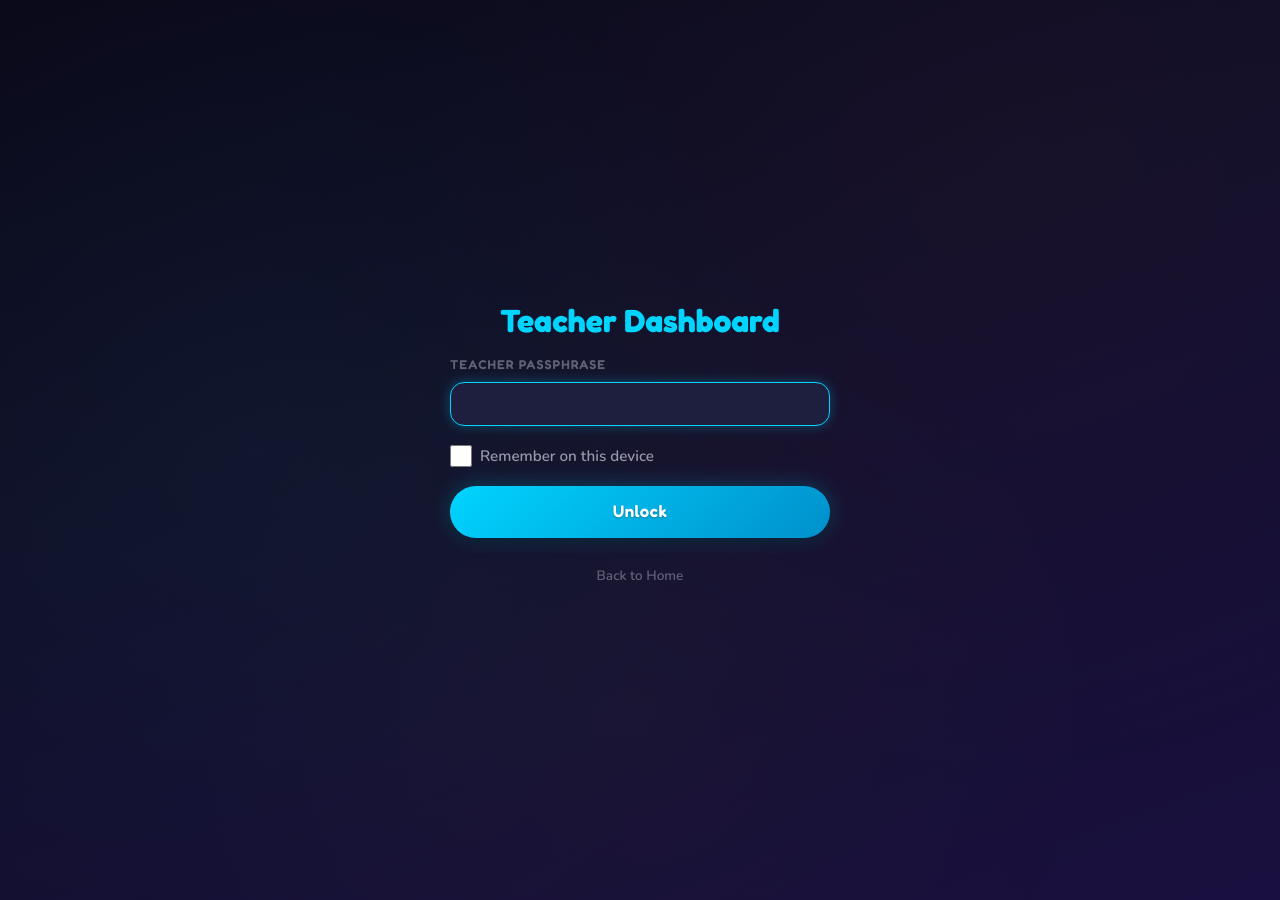
Test: TeacherMode — locked › unlocks into localStorage when Remember on this device is ticked
This screenshot has width=1280, height=900.
Click the checkbox with class "teacher-gate-remember-box" at (461, 456), box [450, 445, 472, 467]
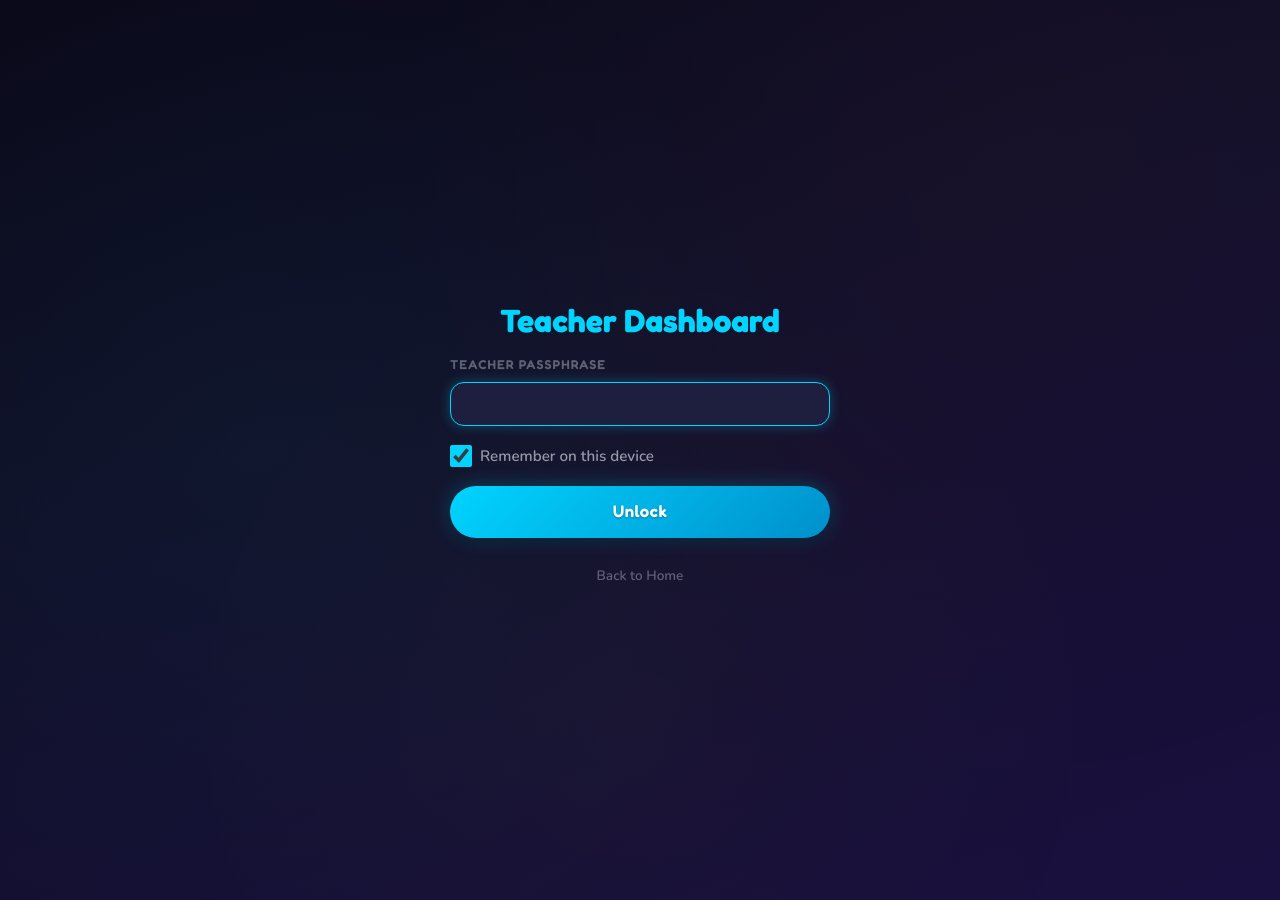
Type "s3cret-key" into the password field with class "teacher-gate-input" at (640, 404), box [450, 382, 830, 426]
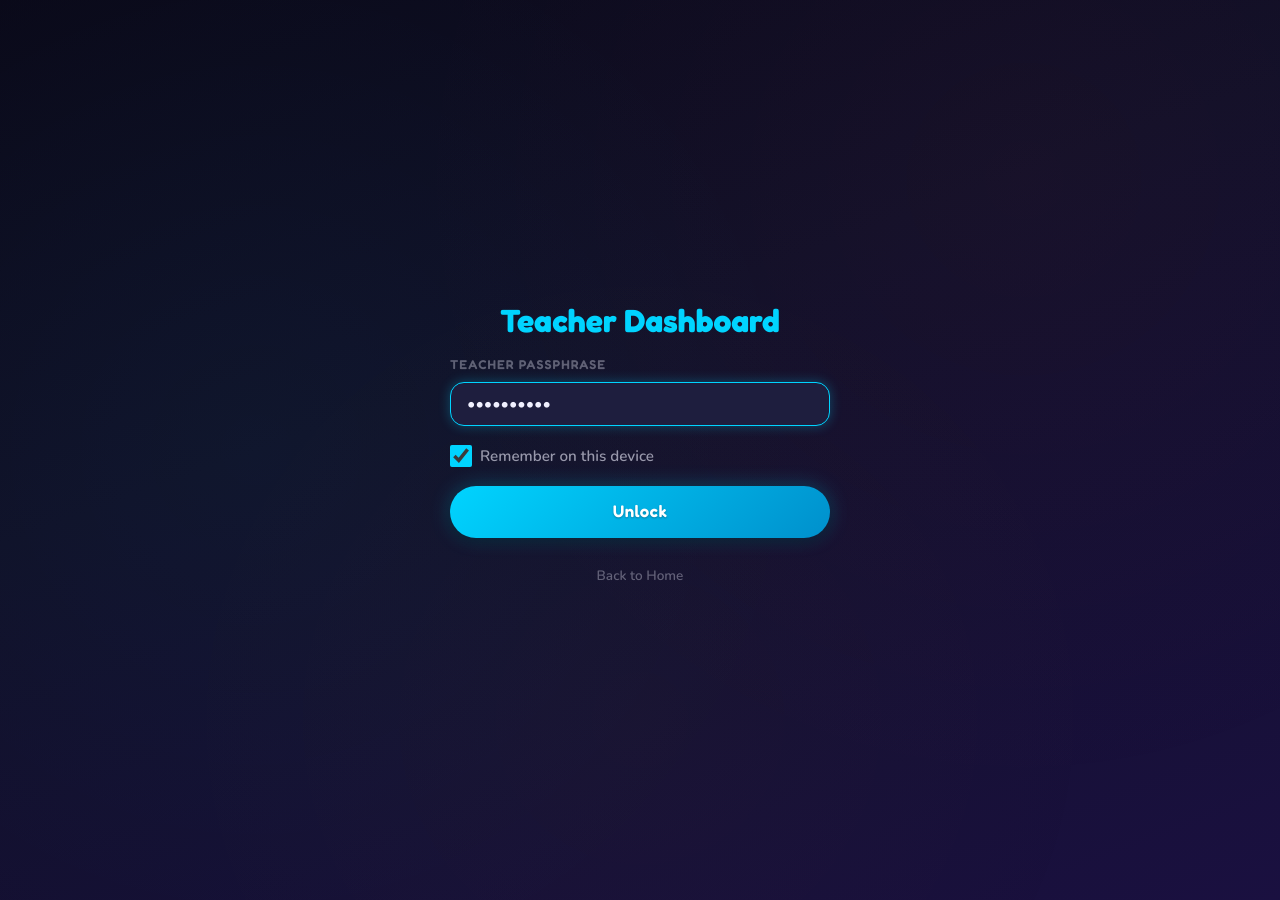
Submit the form with class "teacher-gate-form", box [450, 356, 830, 538]
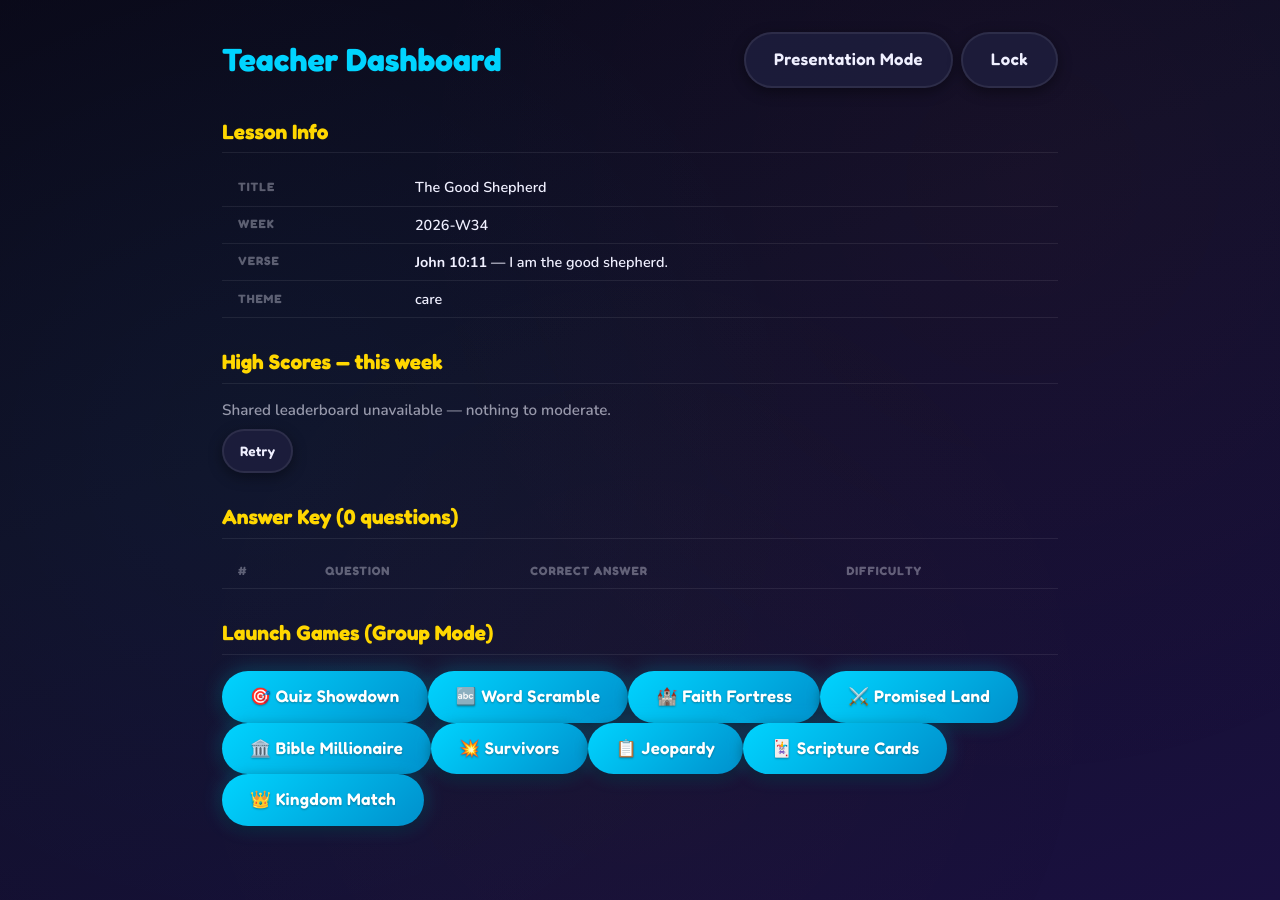
Check: the element with class "teacher-dashboard" is shown
